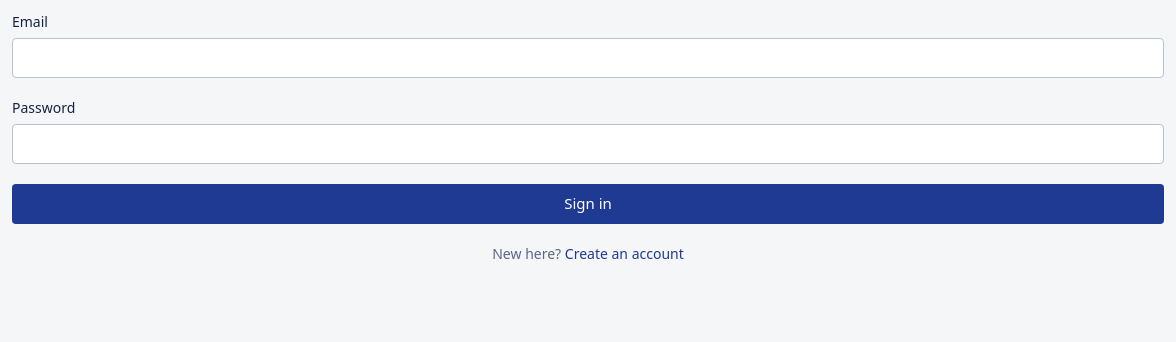
Test: AuthForm (login) › shows the server message for wrong credentials
Type "ana@example.com" into the field labelled "Email" at (588, 58), box [12,38,1164,78]
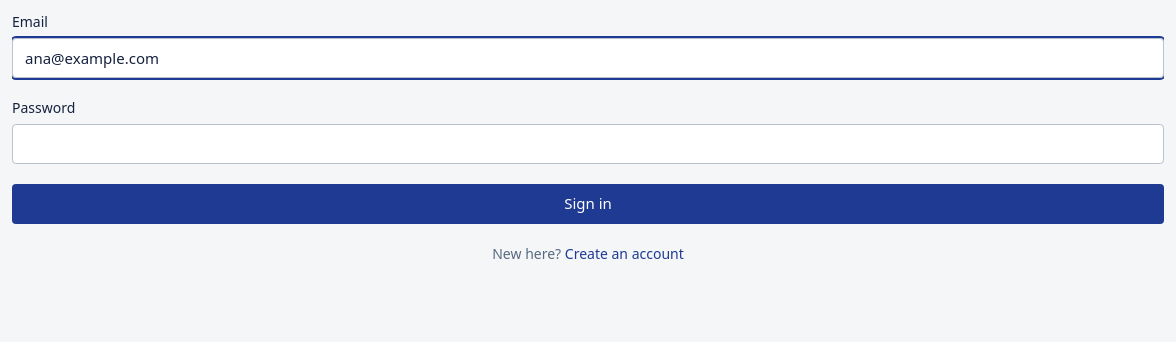
Type "wrong password" into the password field labelled "Password" at (588, 144), box [12,124,1164,164]
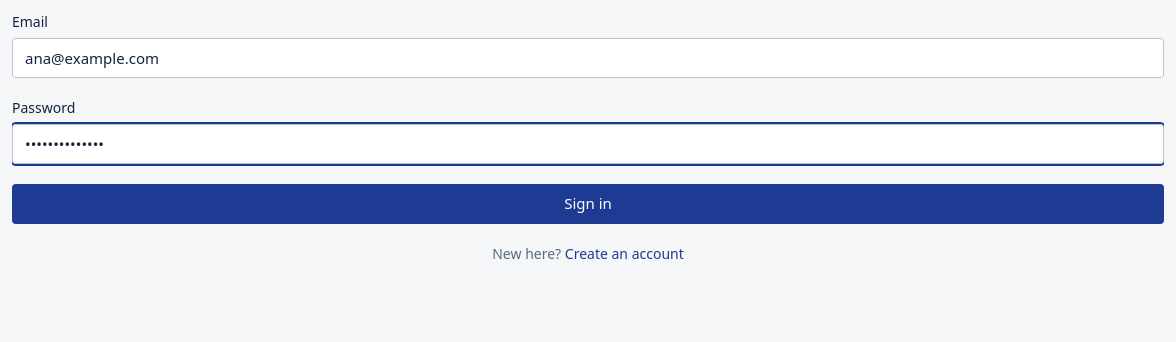
Click the button "Sign in" at (588, 204), box [12,184,1164,224]
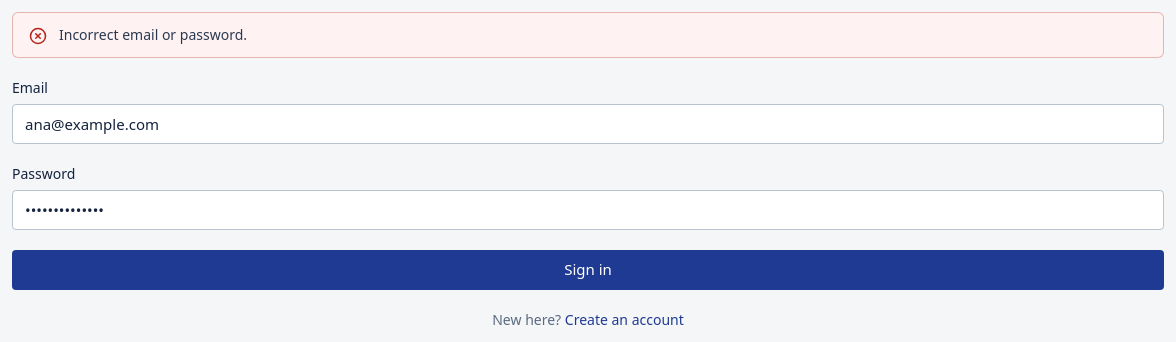
Now the message reads "Incorrect email or password.", box [59,25,247,44]
